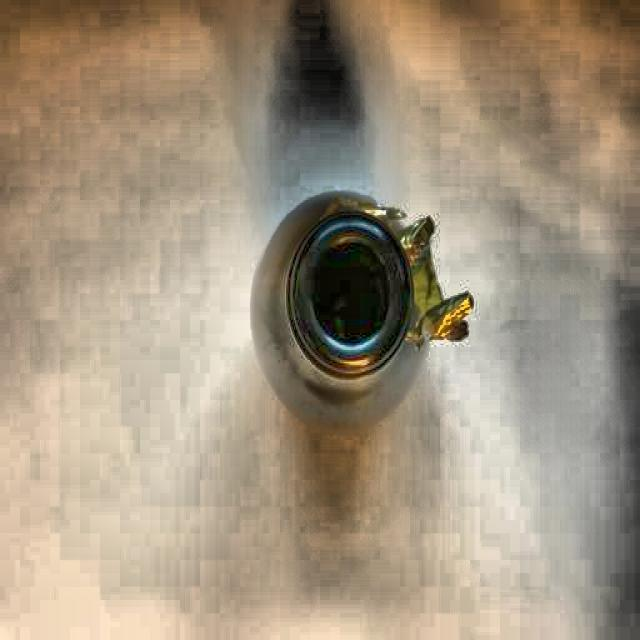glass: (251, 200, 468, 433)
